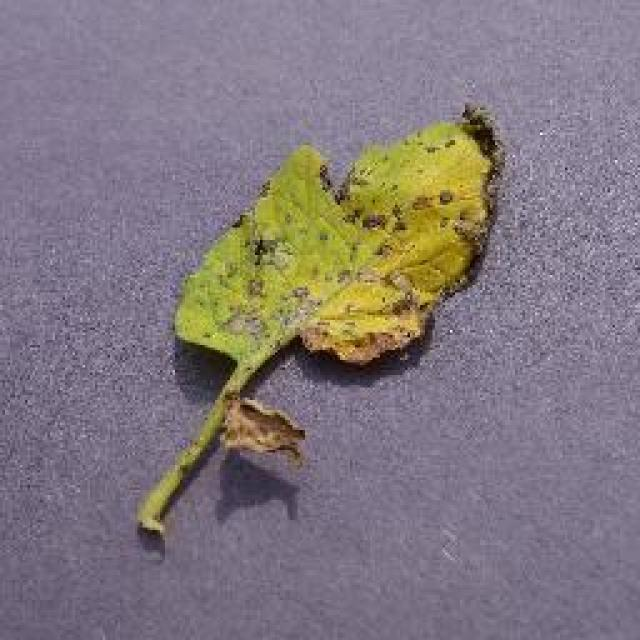Tomato target spot leaf: (172, 105, 508, 463)
